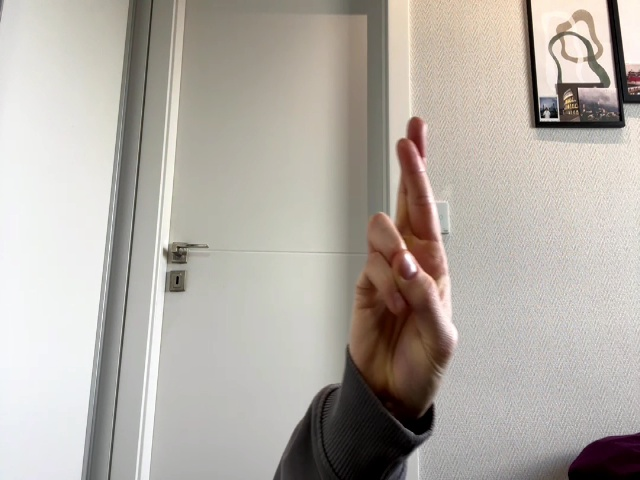R: (355, 117, 459, 403)
